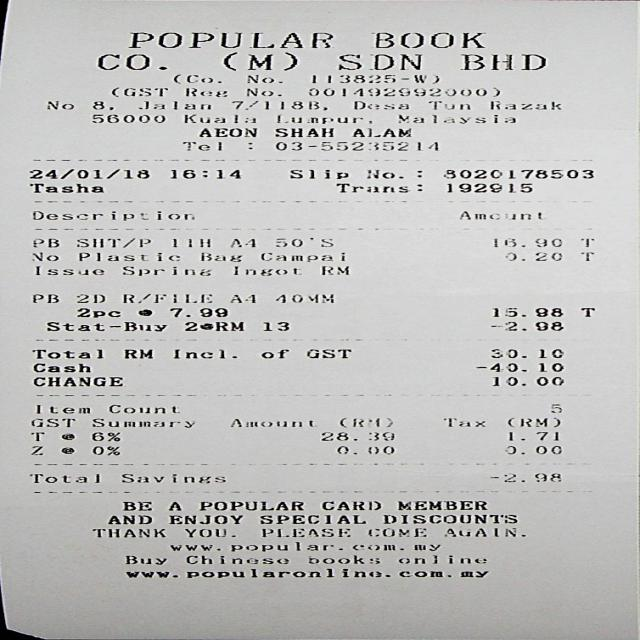text: (126, 32, 330, 47), (184, 568, 487, 578), (229, 541, 439, 551), (307, 87, 498, 96), (374, 32, 483, 47), (31, 211, 193, 220), (222, 51, 296, 70), (275, 142, 435, 150), (459, 54, 544, 69), (336, 54, 420, 69), (442, 170, 594, 178), (27, 168, 148, 178), (383, 514, 516, 523), (46, 321, 165, 331), (397, 114, 514, 123), (96, 54, 165, 69), (91, 418, 193, 428), (312, 74, 436, 82), (231, 100, 326, 110), (259, 514, 364, 523), (198, 501, 302, 510), (122, 473, 224, 482), (78, 252, 179, 261), (445, 182, 532, 192), (335, 182, 421, 192), (185, 555, 287, 563), (121, 293, 210, 302), (260, 528, 349, 537), (121, 266, 209, 275), (33, 377, 121, 386), (260, 252, 344, 261), (275, 115, 369, 123), (28, 182, 102, 192), (76, 237, 150, 247), (473, 363, 562, 371), (396, 555, 485, 563), (491, 376, 562, 386), (489, 472, 560, 482), (396, 501, 484, 509), (489, 321, 564, 330), (90, 528, 163, 537), (229, 418, 311, 426), (458, 211, 539, 219), (442, 528, 523, 536), (169, 514, 240, 523), (29, 473, 98, 482), (183, 321, 243, 331), (489, 349, 564, 357), (320, 500, 379, 510), (90, 114, 163, 122), (182, 114, 254, 122), (30, 350, 102, 358), (306, 555, 378, 563), (137, 100, 208, 108), (33, 266, 104, 274), (107, 404, 178, 412), (489, 100, 558, 108), (493, 238, 562, 246), (491, 308, 560, 316), (170, 170, 238, 178), (338, 417, 391, 427), (506, 417, 558, 427), (110, 87, 166, 96), (172, 350, 235, 358), (232, 266, 294, 274), (33, 363, 88, 372), (34, 404, 89, 413), (505, 445, 559, 454), (168, 308, 228, 316), (275, 294, 334, 302), (504, 252, 562, 260), (367, 528, 425, 536), (198, 128, 255, 136), (352, 128, 409, 136), (288, 170, 345, 178), (275, 128, 331, 136), (353, 100, 408, 108), (275, 238, 330, 246), (306, 348, 350, 358), (337, 446, 392, 454), (508, 432, 560, 440), (182, 528, 234, 536), (29, 418, 74, 427), (106, 515, 150, 524), (171, 74, 219, 82), (76, 308, 118, 317), (200, 252, 241, 261), (123, 555, 164, 564), (426, 100, 468, 108), (442, 418, 484, 426), (366, 169, 402, 178), (185, 88, 225, 96), (124, 570, 176, 576), (182, 142, 220, 150), (169, 544, 219, 550), (171, 238, 208, 246), (320, 432, 356, 440), (245, 88, 280, 96), (247, 74, 280, 82), (91, 445, 117, 455), (90, 432, 118, 441), (122, 501, 150, 510), (260, 321, 287, 330), (75, 294, 104, 302), (259, 350, 288, 358), (122, 350, 150, 358), (31, 294, 58, 302), (228, 294, 255, 302), (45, 100, 71, 108), (32, 238, 58, 246), (228, 238, 254, 246), (31, 252, 57, 260), (321, 266, 347, 274), (368, 432, 393, 440), (90, 101, 111, 109), (166, 501, 179, 510), (580, 308, 593, 316), (29, 432, 42, 440), (580, 238, 592, 246), (580, 252, 592, 260), (29, 446, 41, 454), (550, 404, 560, 412), (60, 433, 73, 439), (60, 447, 73, 453)
